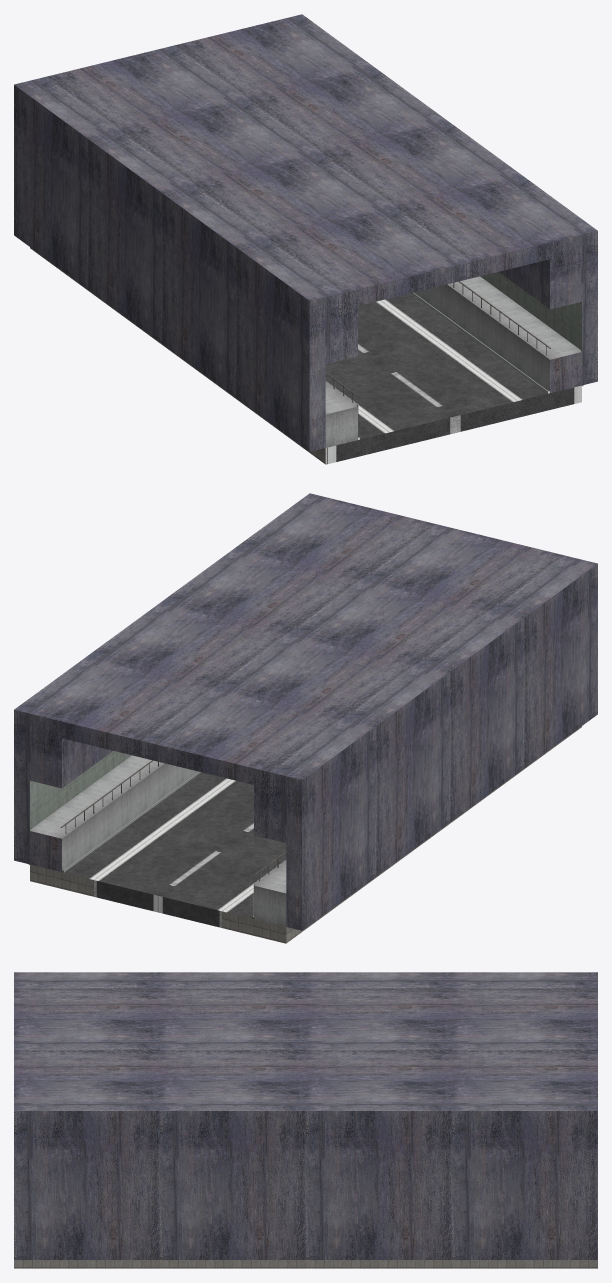
Rendered from SnglTunnelMiddle_high.fbx.
The picture shows the model from 3 angles, top to bottom: view 1: azimuth 30°, elevation 25°; view 2: azimuth 150°, elevation 25°; view 3: azimuth 270°, elevation 25°; orthographic projection.
Parts seen in each view (by area): view 1: top150, materialA150, sidewalks150, materialB150, materialF0, materialG0, materialC150; view 2: top150, materialA150, sidewalks150, materialC150, materialF0, materialG0; view 3: top150, materialC150.
Boxes of the visible parts, left/top/right/bottom form: top150: left=14, top=14, right=597, bottom=451; materialA150: left=325, top=293, right=547, bottom=439; sidewalks150: left=325, top=276, right=580, bottom=436; materialB150: left=325, top=385, right=581, bottom=464; materialF0: left=480, top=272, right=581, bottom=351; materialG0: left=325, top=351, right=581, bottom=447; materialC150: left=30, top=247, right=325, bottom=464; top150: left=14, top=493, right=597, bottom=930; materialA150: left=64, top=772, right=286, bottom=927; sidewalks150: left=31, top=755, right=286, bottom=915; materialC150: left=30, top=726, right=581, bottom=943; materialF0: left=30, top=751, right=131, bottom=830; materialG0: left=30, top=830, right=286, bottom=926; top150: left=14, top=972, right=597, bottom=1259; materialC150: left=14, top=1260, right=597, bottom=1268.
Size of the model in its own units: 28.8 by 16 by 51.2.
